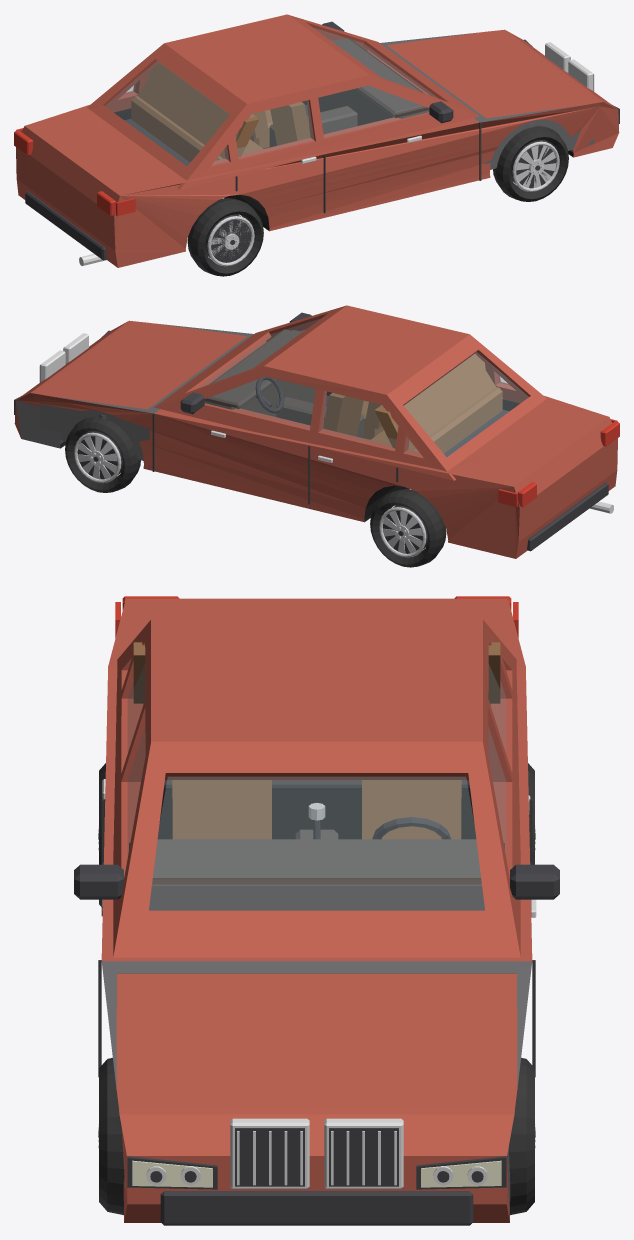
Rendered from dmw5.glb.
3 views of the same model, one above another, from view 1: azimuth 30°, elevation 25°; view 2: azimuth 150°, elevation 25°; view 3: azimuth 270°, elevation 25° (orthographic). The views are drawn at different scales.
Visible parts, largest first — view 1: Body.006, Glass.006, Hood.006, Seat.006, Tire.006, Dark.006, Dash.006, Rim.006, Bay.006, Chrome.006, Tail.006, Well.006; view 2: Body.006, Glass.006, Hood.006, Seat.006, Tire.006, Dark.006, Dash.006, Bay.006, Rim.006, Chrome.006, Tail.006, Well.006; view 3: Body.006, Hood.006, Glass.006, Dark.006, Dash.006, Seat.006, Tire.006, Bay.006, Chrome.006, Well.006, Headlight.006.
Boxes of the visible parts, x1,y1,x2,y2 form: Body.006: [16, 14, 619, 267]; Glass.006: [105, 28, 437, 165]; Hood.006: [386, 30, 600, 118]; Seat.006: [131, 62, 310, 162]; Tire.006: [187, 126, 568, 276]; Dark.006: [25, 21, 619, 262]; Dash.006: [269, 38, 429, 147]; Rim.006: [207, 141, 559, 266]; Bay.006: [380, 32, 593, 169]; Chrome.006: [79, 42, 594, 265]; Tail.006: [14, 128, 135, 216]; Well.006: [114, 100, 573, 230]; Body.006: [14, 305, 617, 558]; Glass.006: [196, 319, 528, 456]; Hood.006: [33, 321, 247, 409]; Seat.006: [323, 353, 502, 453]; Tire.006: [65, 417, 446, 567]; Dark.006: [14, 312, 608, 553]; Dash.006: [204, 329, 364, 438]; Bay.006: [15, 323, 253, 460]; Rim.006: [74, 432, 426, 557]; Chrome.006: [39, 333, 613, 538]; Tail.006: [498, 419, 619, 507]; Well.006: [60, 391, 519, 521]; Body.006: [101, 598, 532, 1222]; Hood.006: [116, 973, 517, 1110]; Glass.006: [128, 665, 505, 910]; Dark.006: [74, 781, 559, 1225]; Dash.006: [129, 829, 504, 910]; Seat.006: [133, 642, 500, 839]; Tire.006: [99, 763, 534, 1215]; Bay.006: [101, 961, 532, 1220]; Chrome.006: [98, 779, 536, 1188]; Well.006: [157, 788, 476, 839]; Headlight.006: [132, 1160, 501, 1187].
Bounding box in the file's own units: 5.1 × 1.48 × 2.05.
